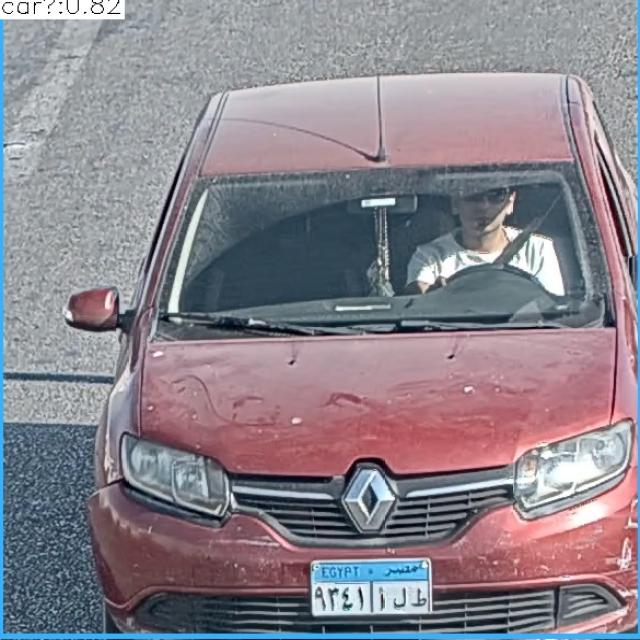windshield: (161, 175, 610, 322)
